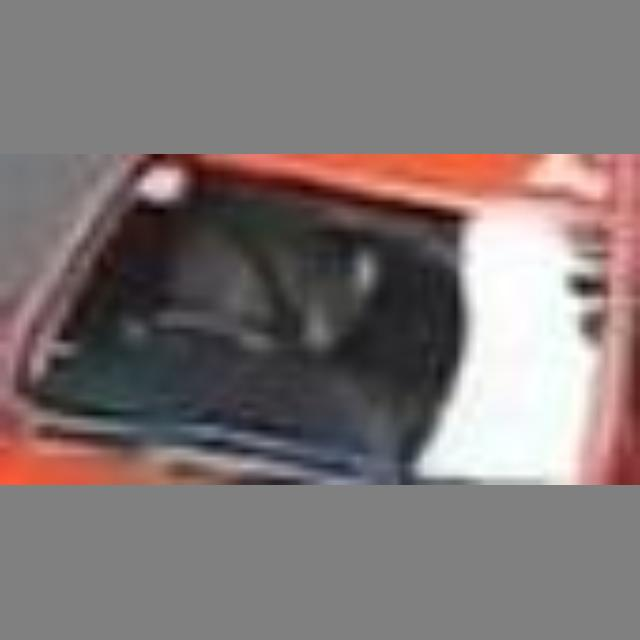pakai: (166, 214, 361, 387)
